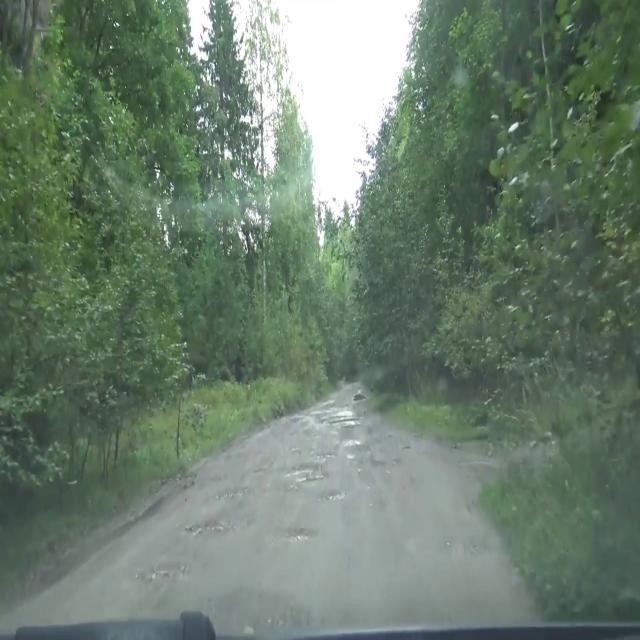pothole: (180, 494, 258, 544), (134, 548, 202, 604), (270, 510, 324, 558), (280, 446, 331, 490), (316, 481, 354, 512), (328, 410, 370, 437), (350, 383, 375, 417)
